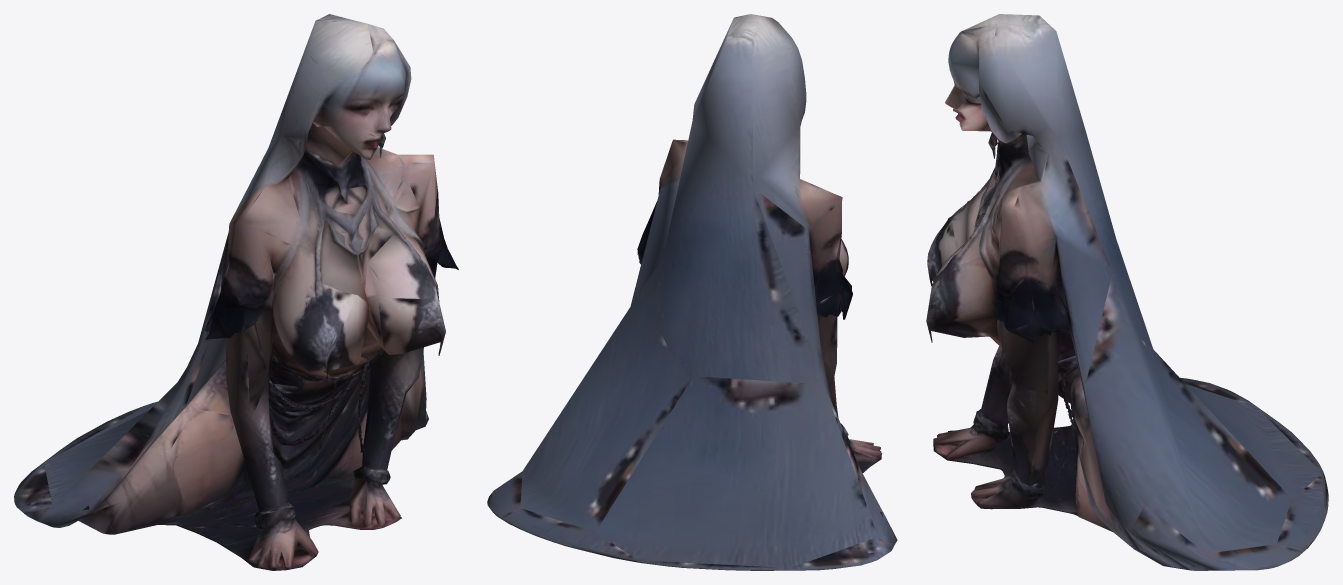
Rendered from girl-30.glb.
3 renders of one model, left to right at view 1: azimuth 30°, elevation 25°; view 2: azimuth 150°, elevation 25°; view 3: azimuth 270°, elevation 25°, orthographic. The views are drawn at different scales.
Visible parts, largest first — view 1: node_0; view 2: node_0; view 3: node_0.
Boxes of the visible parts, left/top/right/bottom form: node_0: left=14, top=14, right=458, bottom=570; node_0: left=487, top=14, right=897, bottom=570; node_0: left=926, top=14, right=1328, bottom=570.
Size of the model in its own units: 0.7379 by 0.8455 by 0.6488.
1 material, 1 textured.
